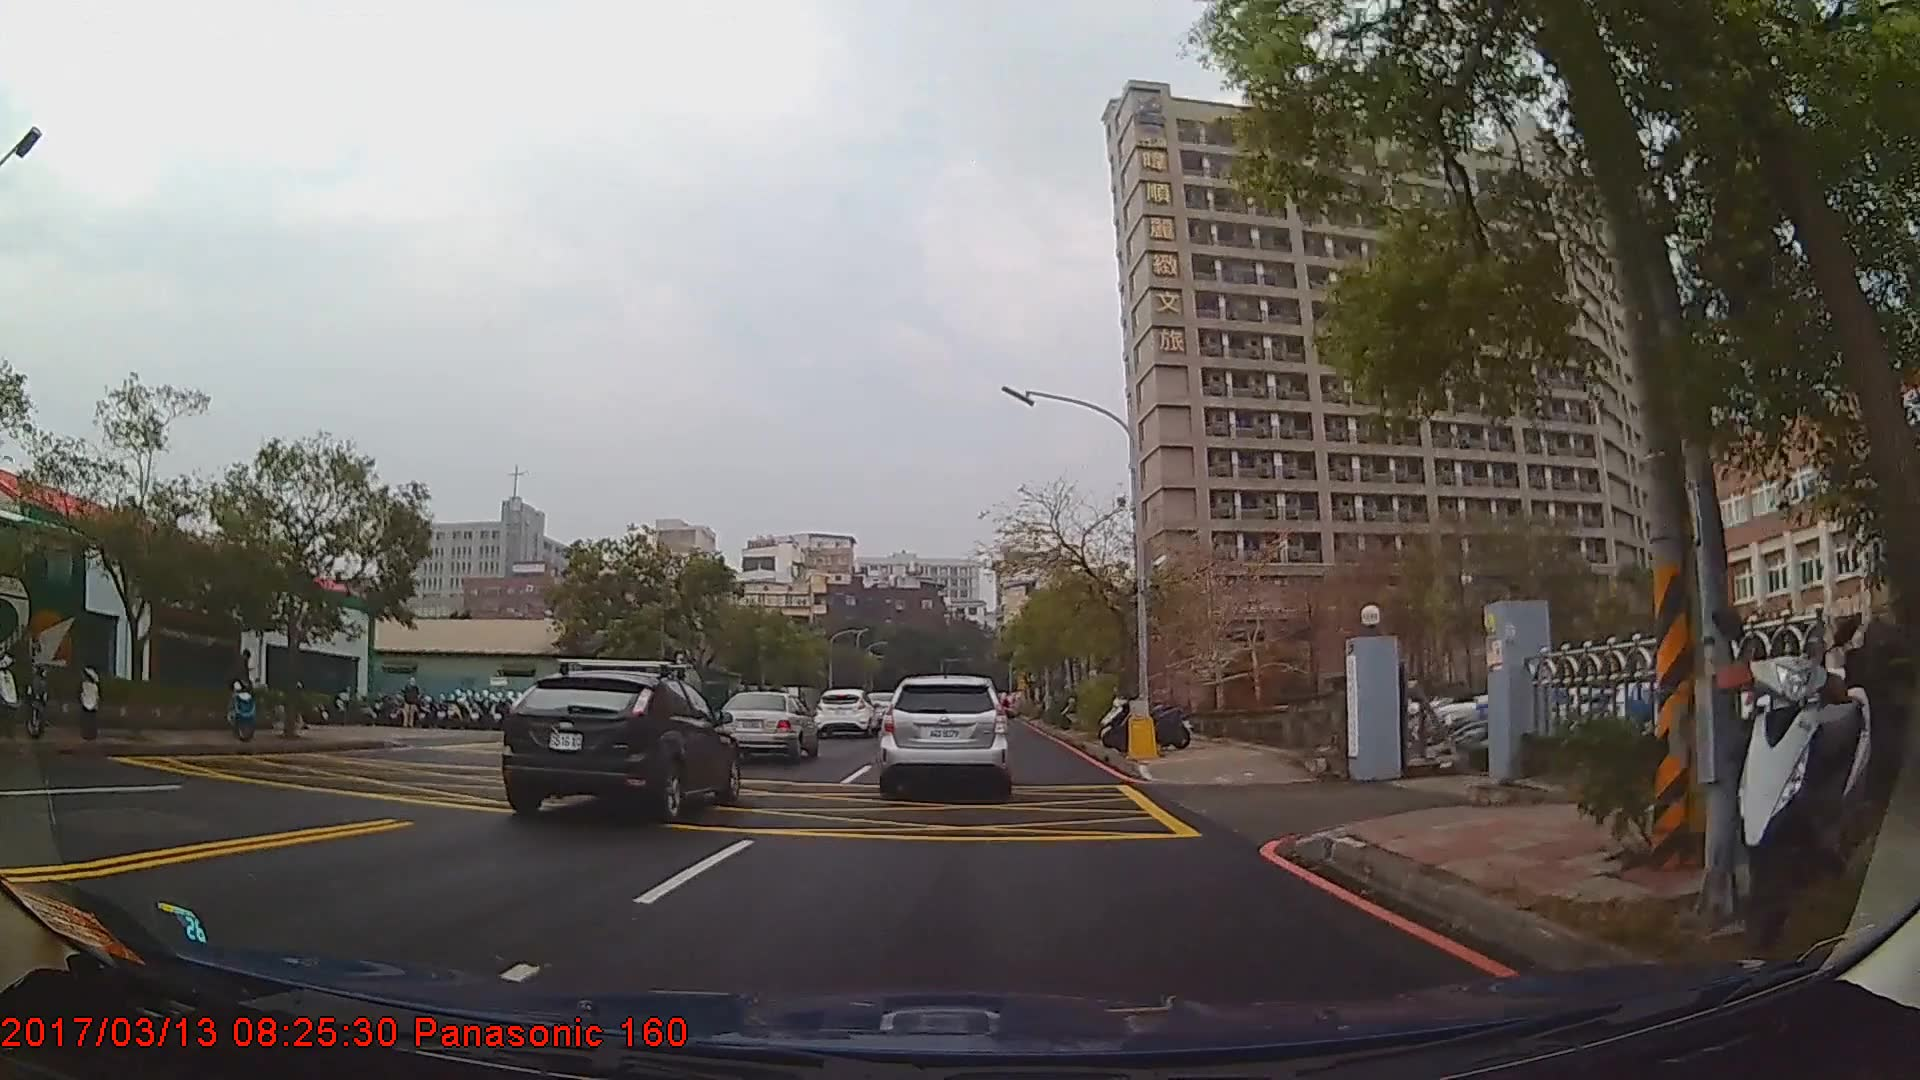pedestrian: (403, 679, 423, 730)
vehicle: (499, 668, 740, 818), (0, 502, 87, 720), (880, 673, 1007, 790), (717, 689, 818, 762), (813, 685, 878, 736)
